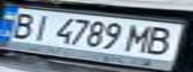4: (51, 15, 75, 45)
7: (66, 16, 90, 47)
8: (84, 19, 106, 48)
9: (103, 20, 127, 52)
B: (139, 25, 187, 56), (0, 9, 42, 39)
I: (24, 11, 57, 42)
M: (121, 21, 160, 54)
